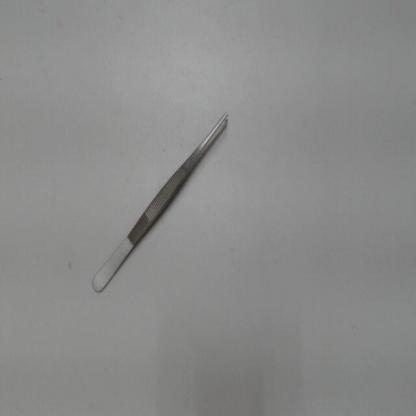Gillies Toothed Dissector: (83, 105, 240, 302)
